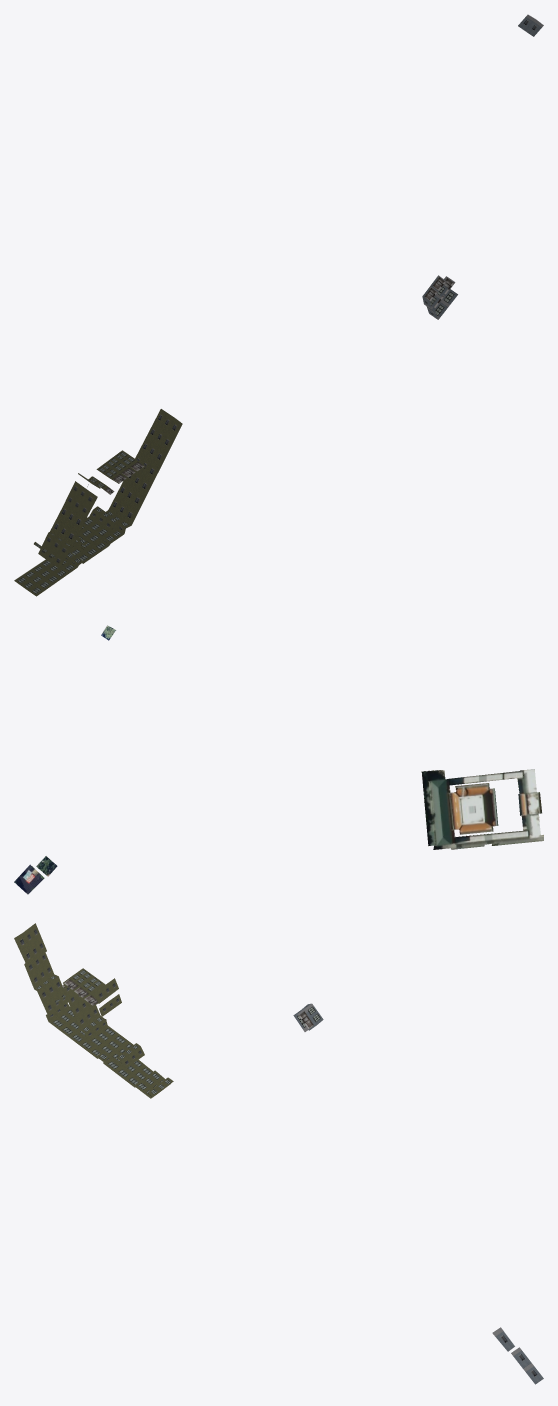
File: tile_LOD8_r7_c6.glb
The picture shows the model from 3 angles, top to bottom: view 1: azimuth 30°, elevation 25°; view 2: azimuth 150°, elevation 25°; view 3: azimuth 270°, elevation 25°; orthographic projection. The views are drawn at different scales.
Bounding box in the file's own units: 262 × 144 × 184.
Materials: 12 (12 with a texture image).
